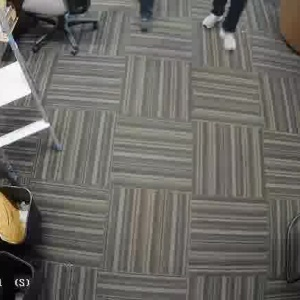person: (201, 0, 246, 59)
